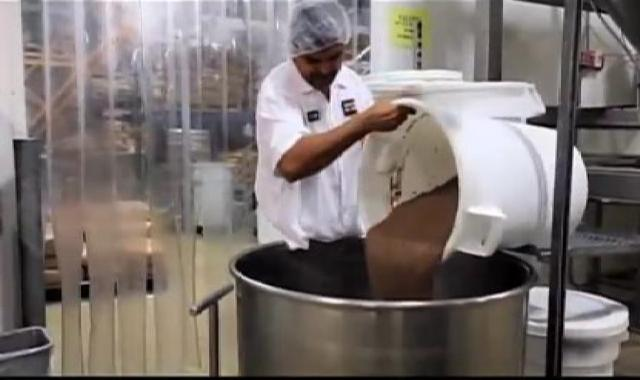hairnet: (282, 0, 356, 59)
